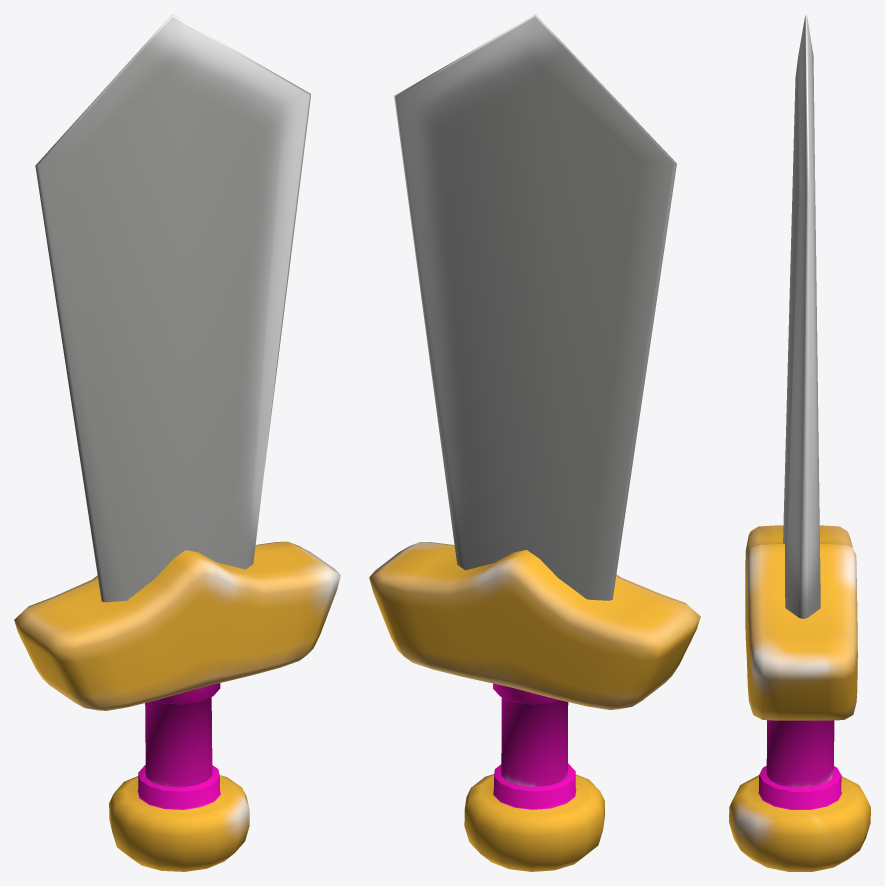
The model's file is sword gold.fbx.
The picture shows the model from 3 angles, left to right: view 1: azimuth 30°, elevation 25°; view 2: azimuth 150°, elevation 25°; view 3: azimuth 270°, elevation 25°; orthographic projection.
Parts seen in each view (by area): view 1: sword gold.001; view 2: sword gold.001; view 3: sword gold.001.
Boxes of the visible parts, bbox=[...] form: sword gold.001: bbox=[14, 14, 340, 871]; sword gold.001: bbox=[369, 14, 700, 871]; sword gold.001: bbox=[729, 14, 870, 871].
Bounding box in the file's own units: 66.04 × 181 × 27.75.
1 material, 1 textured.
